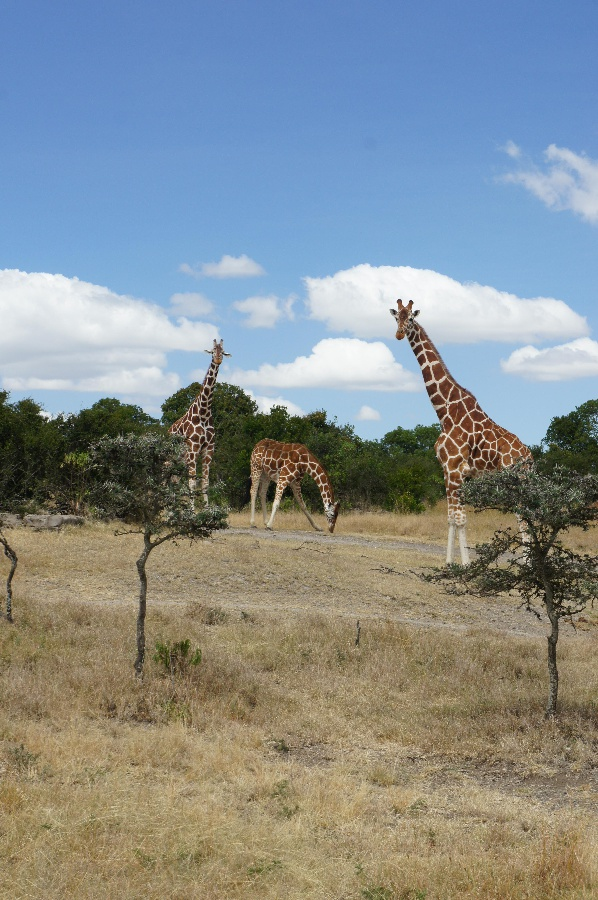giraffe: (386, 290, 560, 582), (149, 336, 232, 527), (246, 433, 349, 538)
